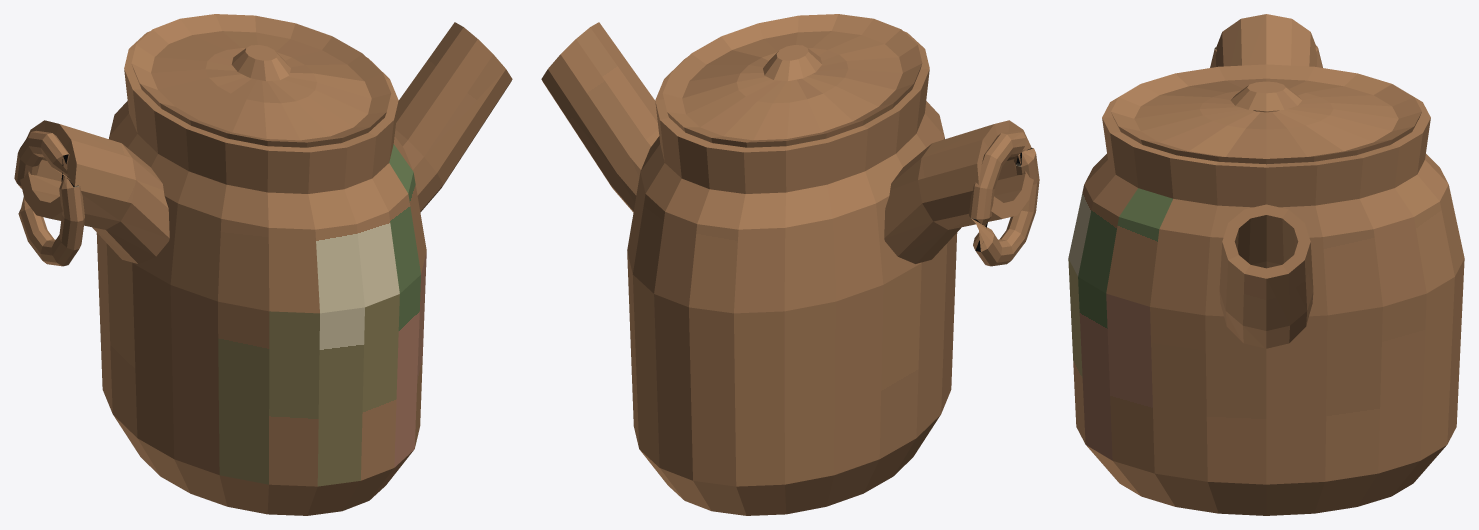
Rendered from antique-banko-teapot.glb.
The picture shows the model from 3 angles, left to right: view 1: azimuth 30°, elevation 25°; view 2: azimuth 150°, elevation 25°; view 3: azimuth 270°, elevation 25°; orthographic projection. The views are drawn at different scales.
Visible parts, largest first — view 1: antique-banko-teapot/vessel-2, antique-banko-teapot/vessel-3, antique-banko-teapot/lid-4, antique-banko-teapot/spout-outer, antique-banko-teapot/vessel-4, antique-banko-teapot/vessel-5, antique-banko-teapot/side-handle-outer, antique-banko-teapot/lid-3, antique-banko-teapot/vessel-1, antique-banko-teapot/handle-terminal-loop, antique-banko-teapot/lid-5, antique-banko-teapot/vessel-6 (+4 smaller); view 2: antique-banko-teapot/vessel-2, antique-banko-teapot/vessel-3, antique-banko-teapot/lid-4, antique-banko-teapot/spout-outer, antique-banko-teapot/vessel-4, antique-banko-teapot/vessel-5, antique-banko-teapot/side-handle-outer, antique-banko-teapot/lid-3, antique-banko-teapot/vessel-1, antique-banko-teapot/handle-terminal-loop, antique-banko-teapot/lid-5, antique-banko-teapot/vessel-6 (+4 smaller); view 3: antique-banko-teapot/vessel-2, antique-banko-teapot/vessel-3, antique-banko-teapot/vessel-5, antique-banko-teapot/lid-4, antique-banko-teapot/vessel-4, antique-banko-teapot/vessel-1, antique-banko-teapot/lid-3, antique-banko-teapot/spout-outer, antique-banko-teapot/side-handle-outer, antique-banko-teapot/lid-5, antique-banko-teapot/spout-inner, antique-banko-teapot/spout-open-rims (+3 smaller).
Part boxes in pixels (bbox=[...]): antique-banko-teapot/vessel-2: bbox=[96, 233, 426, 486]; antique-banko-teapot/vessel-3: bbox=[109, 137, 426, 313]; antique-banko-teapot/lid-4: bbox=[151, 31, 371, 140]; antique-banko-teapot/spout-outer: bbox=[394, 22, 512, 212]; antique-banko-teapot/vessel-4: bbox=[109, 101, 413, 229]; antique-banko-teapot/vessel-5: bbox=[124, 70, 398, 193]; antique-banko-teapot/side-handle-outer: bbox=[52, 124, 169, 263]; antique-banko-teapot/lid-3: bbox=[131, 14, 391, 142]; antique-banko-teapot/vessel-1: bbox=[113, 415, 413, 515]; antique-banko-teapot/handle-terminal-loop: bbox=[14, 130, 84, 266]; antique-banko-teapot/lid-5: bbox=[205, 48, 316, 103]; antique-banko-teapot/vessel-6: bbox=[124, 31, 398, 152]; antique-banko-teapot/vessel-2: bbox=[627, 232, 957, 486]; antique-banko-teapot/vessel-3: bbox=[627, 137, 944, 313]; antique-banko-teapot/lid-4: bbox=[682, 31, 902, 140]; antique-banko-teapot/spout-outer: bbox=[541, 22, 659, 212]; antique-banko-teapot/vessel-4: bbox=[640, 101, 944, 229]; antique-banko-teapot/vessel-5: bbox=[655, 69, 929, 193]; antique-banko-teapot/side-handle-outer: bbox=[884, 124, 1001, 263]; antique-banko-teapot/lid-3: bbox=[662, 14, 922, 142]; antique-banko-teapot/vessel-1: bbox=[639, 415, 940, 515]; antique-banko-teapot/handle-terminal-loop: bbox=[969, 130, 1039, 266]; antique-banko-teapot/lid-5: bbox=[736, 48, 848, 103]; antique-banko-teapot/vessel-6: bbox=[655, 31, 929, 152]; antique-banko-teapot/vessel-2: bbox=[1068, 258, 1464, 484]; antique-banko-teapot/vessel-3: bbox=[1068, 185, 1464, 316]; antique-banko-teapot/vessel-5: bbox=[1102, 118, 1430, 207]; antique-banko-teapot/lid-4: bbox=[1134, 78, 1398, 158]; antique-banko-teapot/vessel-4: bbox=[1084, 154, 1448, 237]; antique-banko-teapot/vessel-1: bbox=[1086, 445, 1446, 515]; antique-banko-teapot/lid-3: bbox=[1111, 64, 1421, 156]; antique-banko-teapot/spout-outer: bbox=[1219, 242, 1313, 348]; antique-banko-teapot/side-handle-outer: bbox=[1215, 14, 1317, 66]; antique-banko-teapot/lid-5: bbox=[1199, 90, 1333, 129]; antique-banko-teapot/spout-inner: bbox=[1234, 215, 1298, 268]; antique-banko-teapot/spout-open-rims: bbox=[1222, 204, 1310, 278].
Bounding box in the file's own units: 0.4375 × 0.3584 × 0.3373.
Materials: 3 (3 with a texture image).
